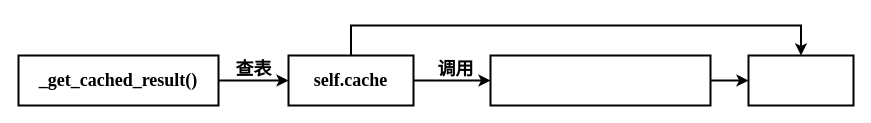
The diagram is 871 pixels wide and 123 high, and some of its shapes have lost their labels. The shapes that lost their labels are listed below. From the top down, each one's box as (x1, y1, x2, y2) in pixels, then its label:
(489, 54, 711, 106): _perform_operation()
(747, 54, 854, 106): return
